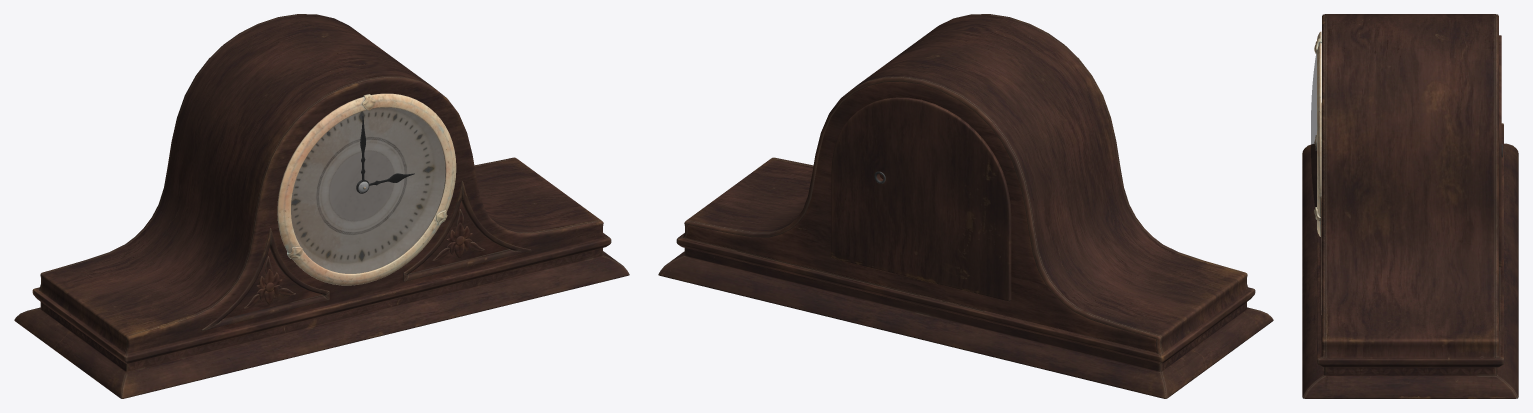
Rendered from mantel_clock_01.glb.
3 views of the same model, side by side, from view 1: azimuth 30°, elevation 25°; view 2: azimuth 150°, elevation 25°; view 3: azimuth 270°, elevation 25° (orthographic).
Visible parts, largest first — view 1: mantel_clock_01, mantel_clock_01_glass; view 2: mantel_clock_01; view 3: mantel_clock_01, mantel_clock_01_glass.
Part boxes in pixels (x1,y1,x2,y2): mantel_clock_01: (14, 14, 629, 398); mantel_clock_01_glass: (291, 107, 445, 273); mantel_clock_01: (658, 14, 1273, 398); mantel_clock_01: (1302, 14, 1518, 398); mantel_clock_01_glass: (1311, 53, 1316, 207).
Size of the model in its own units: 0.3423 by 0.1605 by 0.1262.
2 materials, 2 textured.
